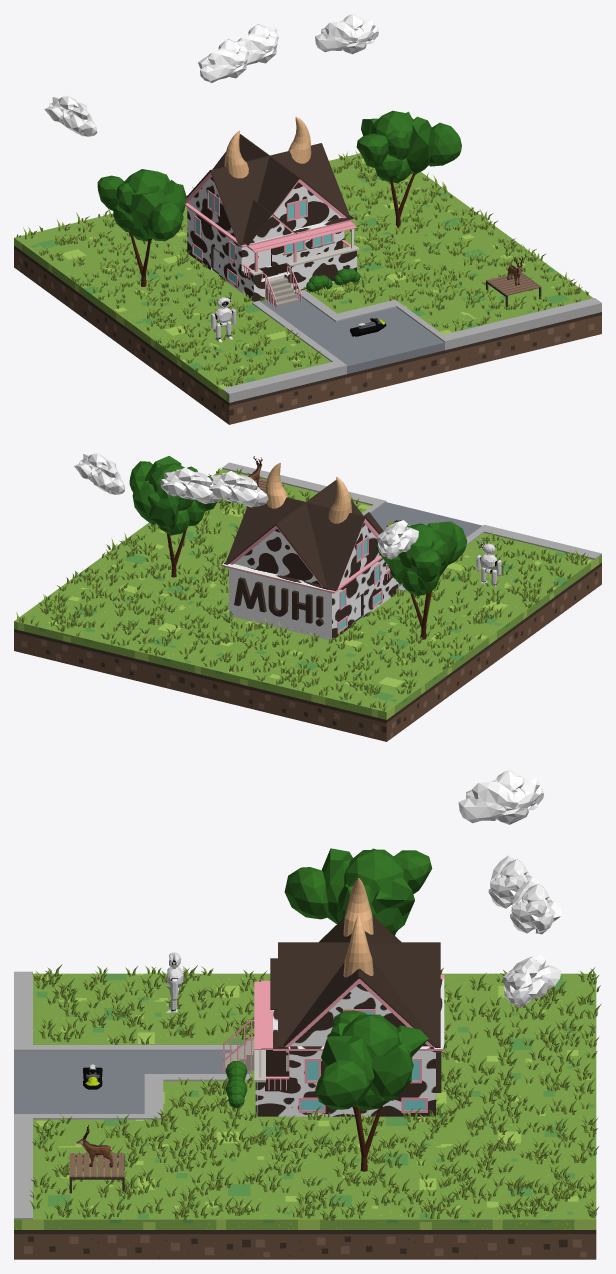
3 views of the same model, one above another, from view 1: azimuth 30°, elevation 25°; view 2: azimuth 150°, elevation 25°; view 3: azimuth 270°, elevation 25° (orthographic). The views are drawn at different scales.
Parts seen in each view (by area): view 1: Cube.006, Cube.1242, Circle.012_Grass_0.192, Cube.007, tree, tree.001, Cube.009, OBJRANDOM_PLATZEEBOT; view 2: Cube.006, Cube.1242, Circle.012_Grass_0.192, Cube.007, tree.001, tree, OBJRANDOM_PLATZEEBOT; view 3: Cube.006, Circle.012_Grass_0.192, Cube.1242, tree, Cube.007, tree.001, Cube.009, OBJRANDOM_PLATZEEBOT.
Part boxes in pixels (box(x1,y1,x2,y2)): Cube.006: box(14, 153, 601, 424); Cube.1242: box(185, 117, 359, 308); Circle.012_Grass_0.192: box(16, 150, 588, 386); Cube.007: box(44, 14, 378, 136); tree: box(356, 110, 461, 228); tree.001: box(97, 169, 186, 286); Cube.009: box(486, 272, 541, 306); OBJRANDOM_PLATZEEBOT: box(211, 292, 236, 342); Cube.006: box(14, 462, 601, 741); Cube.1242: box(221, 462, 398, 640); Circle.012_Grass_0.192: box(16, 468, 588, 711); Cube.007: box(74, 453, 418, 559); tree.001: box(375, 521, 467, 639); tree: box(129, 456, 216, 577); OBJRANDOM_PLATZEEBOT: box(476, 539, 501, 587); Cube.006: box(14, 971, 596, 1259); Circle.012_Grass_0.192: box(29, 964, 601, 1220); Cube.1242: box(223, 878, 444, 1116); tree: box(315, 1010, 428, 1171); Cube.007: box(458, 770, 561, 1007); tree.001: box(284, 848, 432, 935); Cube.009: box(69, 1153, 124, 1193); OBJRANDOM_PLATZEEBOT: box(165, 952, 183, 1013).
Bounding box in the file's own units: 4071 × 2126 × 4040.
Materials: 33 (4 with a texture image).
